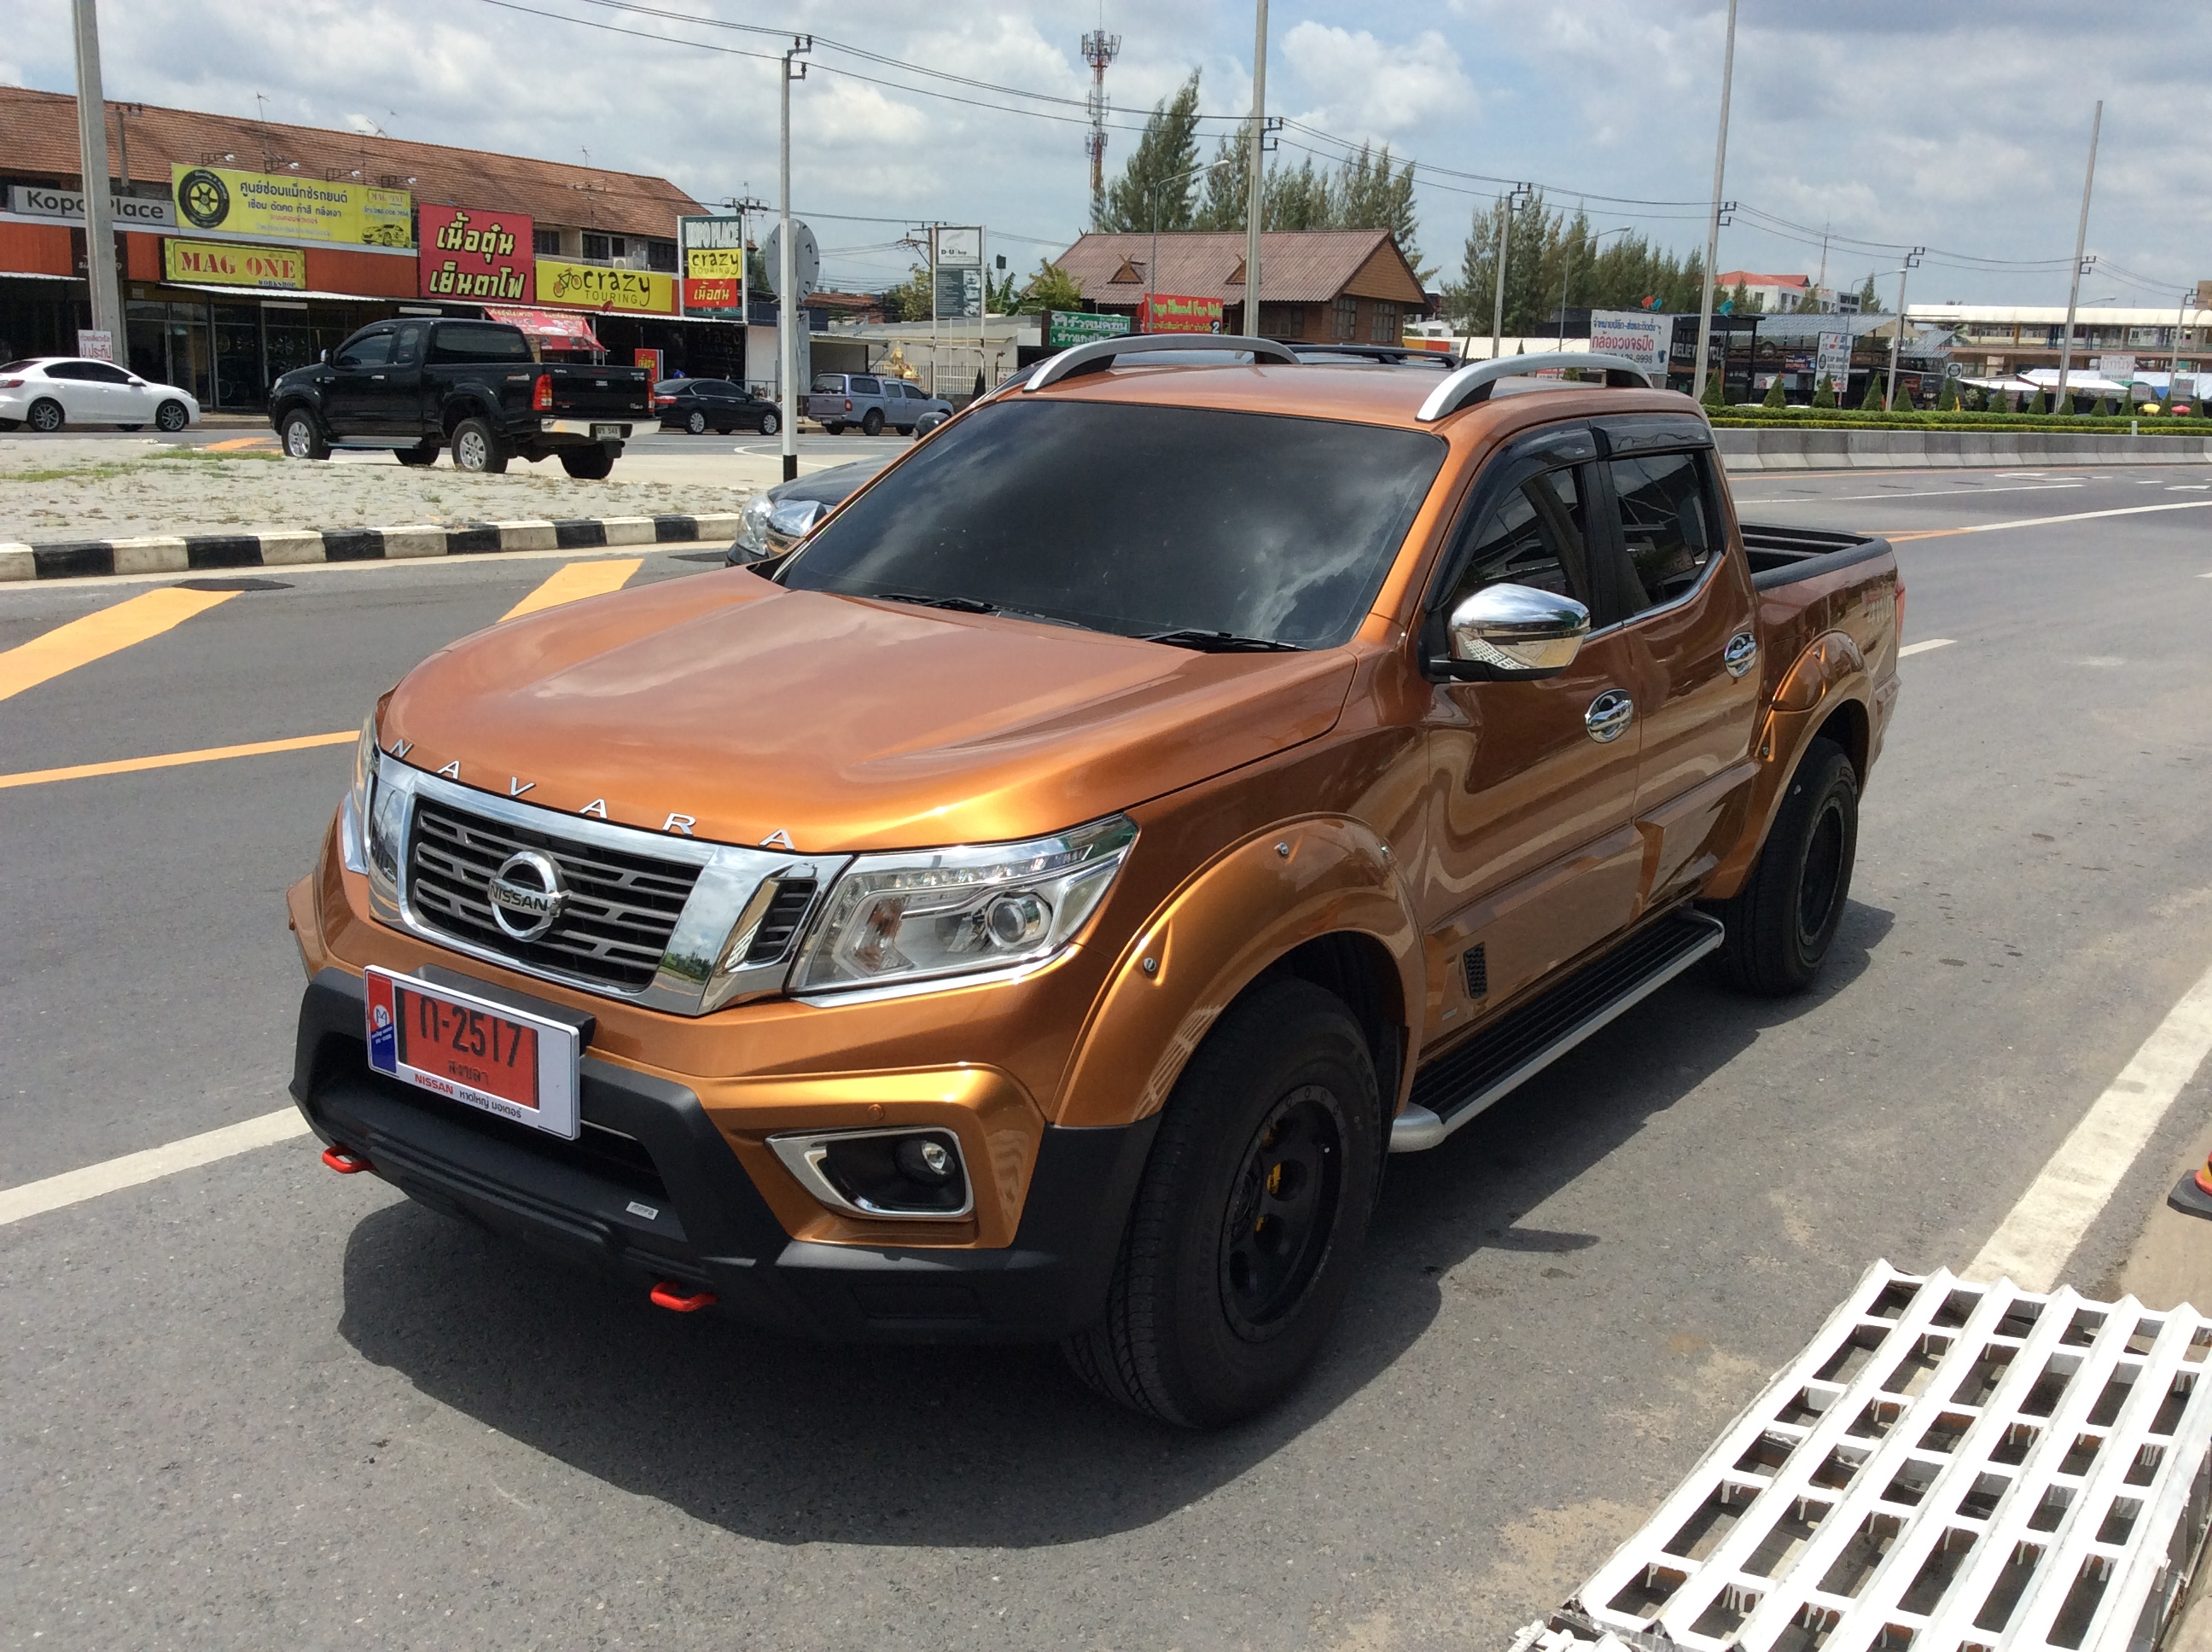pickup: (281, 331, 1912, 1451)
